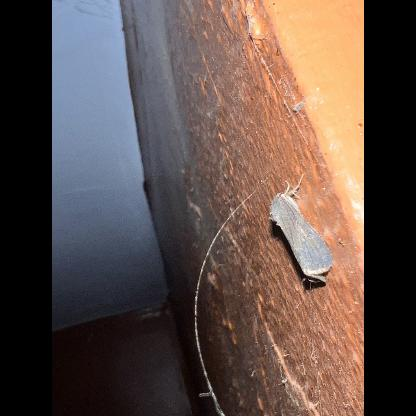Fall Armyworm Moth: (267, 172, 337, 290)
